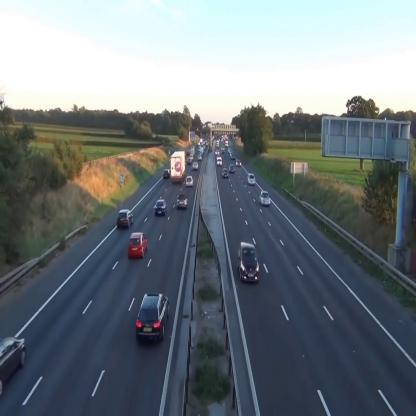car: (136, 292, 170, 343), (128, 232, 149, 259), (117, 210, 134, 229), (155, 200, 167, 216), (177, 194, 189, 210), (259, 190, 271, 206), (248, 173, 256, 184), (186, 175, 193, 187), (163, 169, 170, 179), (216, 156, 222, 166), (236, 158, 242, 167), (223, 167, 228, 176), (192, 163, 198, 169), (230, 165, 235, 172), (187, 156, 191, 164), (197, 155, 202, 159)
lorry: (238, 241, 260, 282), (170, 151, 186, 182)
